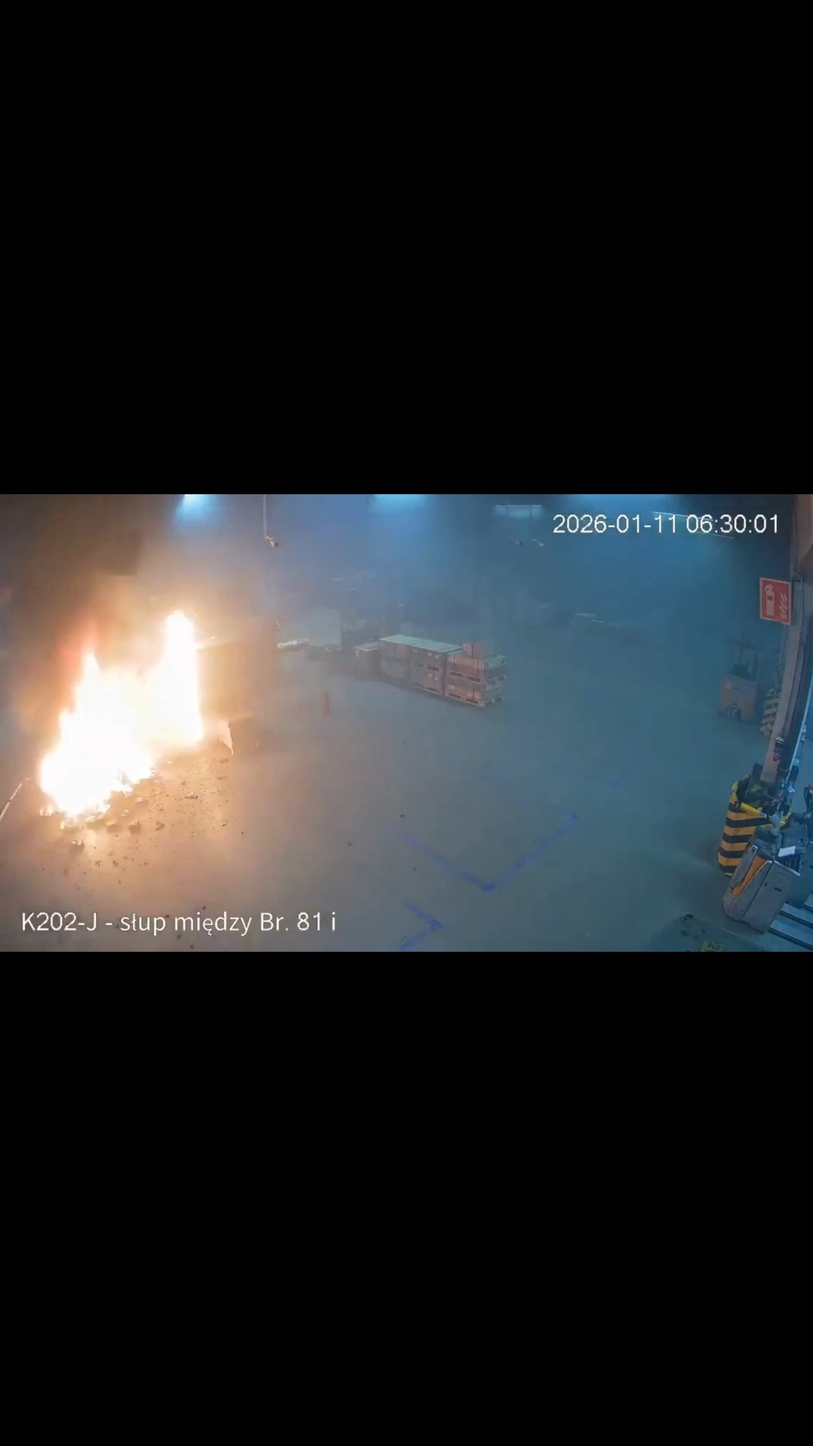fire: (37, 609, 234, 831)
smoke: (2, 495, 426, 731)
